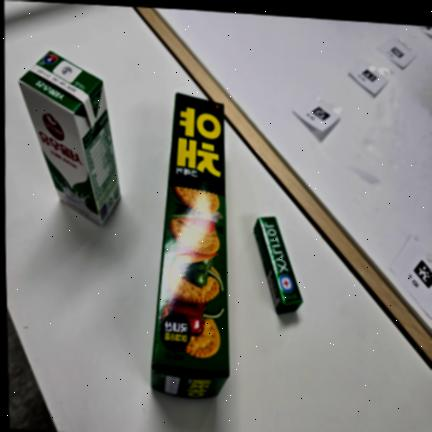cracker_vege: (151, 93, 229, 398)
gum_green: (254, 216, 302, 313)
milk_green: (18, 52, 120, 225)
